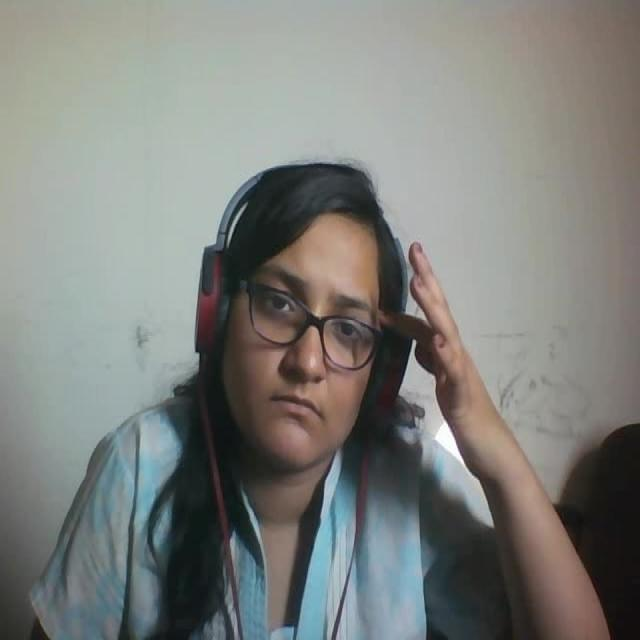Bored: (182, 132, 426, 464)
